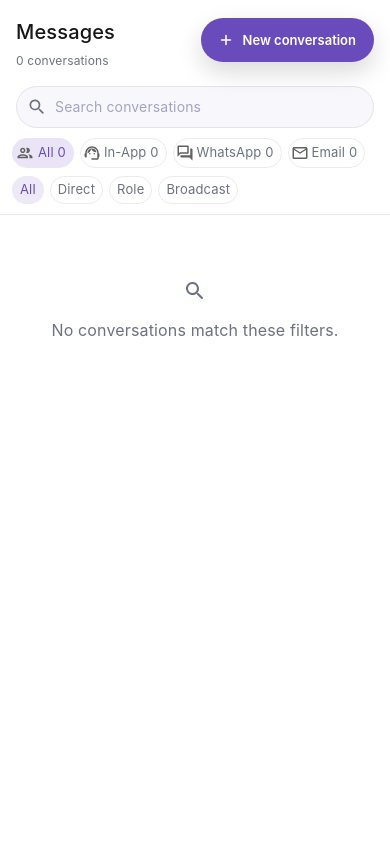
Scenario: CommunicationWorkspace › surfaces a failure when creating the conversation returns no id
This screenshot has width=390, height=844.
Step 1. Click the button "New conversation" → (287, 40), box [200, 18, 374, 62]
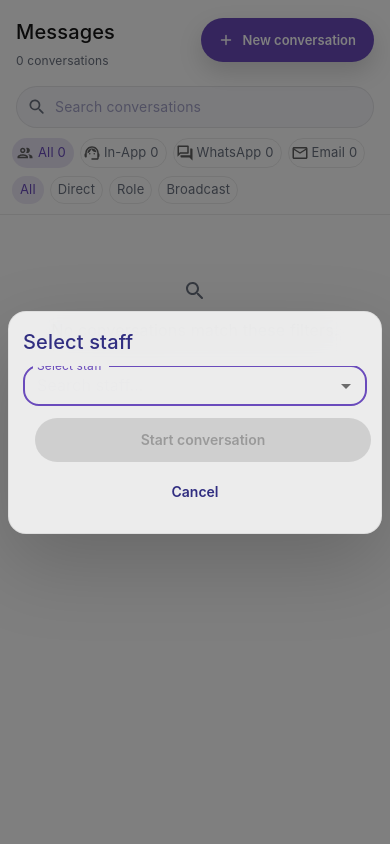
Step 2. Type "Lena" into the dropdown → (178, 386), box [29, 372, 328, 400]
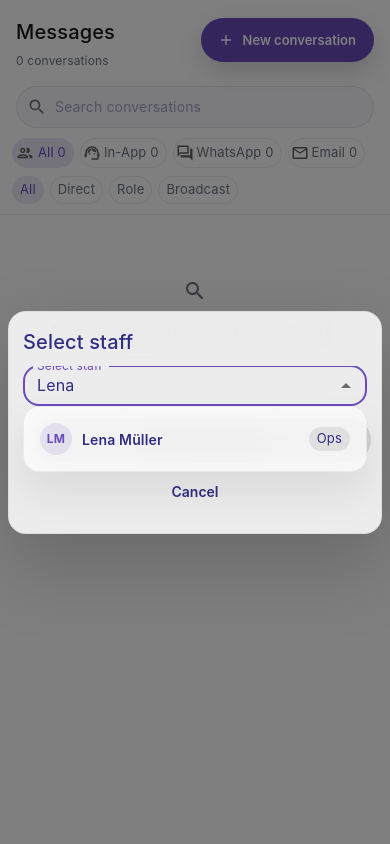
Step 3. Click the option "LM Lena Müller Ops" → (56, 439), box [24, 415, 366, 463]
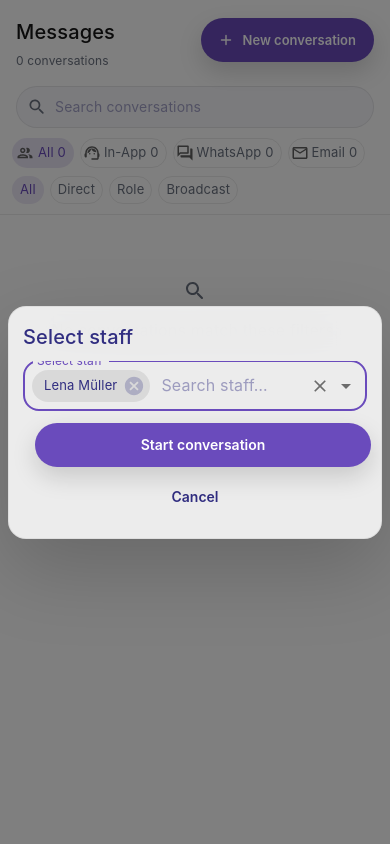
Step 4. Click the button "Start conversation" → (203, 445), box [35, 422, 371, 467]
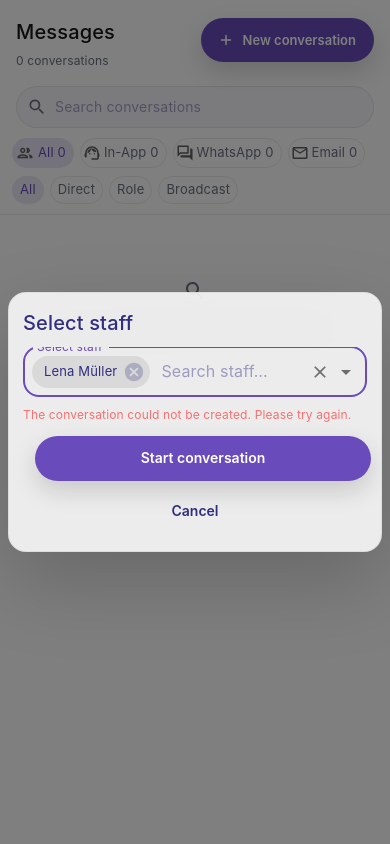
Now the text "The conversation could not be created. Please try again." is shown, box [23, 404, 367, 424]
